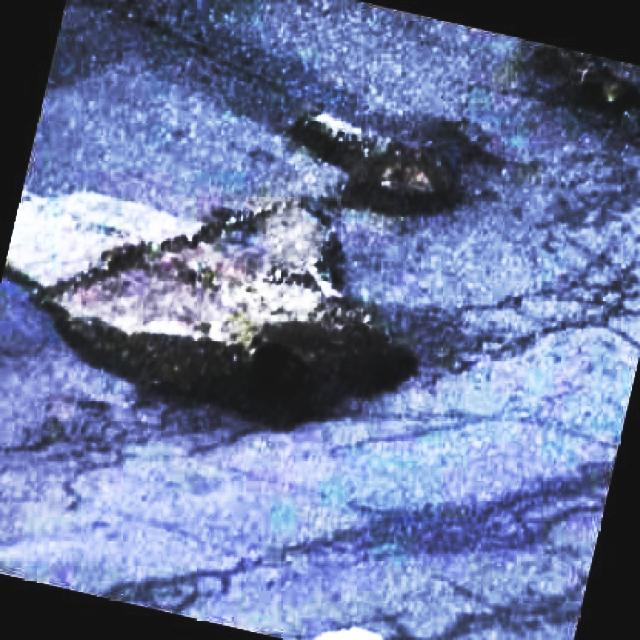pothole: (31, 191, 420, 435), (289, 103, 469, 219), (531, 37, 638, 140)
